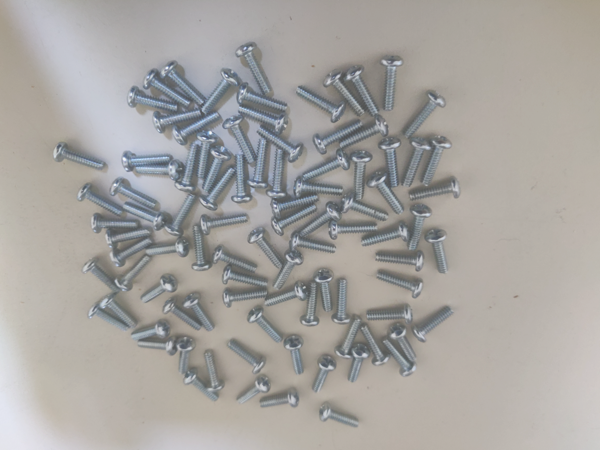shortscrew: (403, 90, 447, 140), (159, 61, 207, 106), (324, 68, 367, 117), (296, 84, 347, 123), (143, 68, 192, 108), (236, 42, 271, 95), (257, 124, 304, 163), (337, 115, 390, 149), (344, 65, 379, 116), (313, 120, 364, 155), (172, 111, 222, 146), (202, 68, 239, 115), (420, 135, 453, 187), (199, 167, 237, 211), (223, 115, 257, 164), (77, 183, 125, 217), (412, 307, 455, 344), (239, 103, 288, 135), (402, 136, 432, 188), (381, 336, 418, 378), (247, 227, 284, 269), (53, 142, 106, 171), (237, 83, 288, 113), (109, 178, 158, 209), (271, 204, 317, 237), (301, 201, 343, 237), (341, 192, 390, 222), (99, 292, 138, 329), (165, 193, 197, 237), (115, 254, 152, 292), (376, 271, 424, 300), (247, 306, 284, 343), (82, 258, 121, 293), (273, 247, 304, 291), (228, 340, 268, 374), (380, 55, 404, 111), (212, 245, 258, 274), (163, 298, 203, 331), (111, 236, 153, 267), (360, 325, 391, 367), (128, 87, 178, 113), (405, 204, 432, 252), (123, 201, 166, 231), (203, 147, 231, 193), (183, 293, 215, 333), (410, 176, 461, 201), (88, 303, 130, 333), (361, 224, 411, 249), (152, 110, 203, 134), (335, 317, 363, 360), (388, 323, 418, 363), (350, 151, 374, 200), (379, 137, 402, 188), (271, 195, 319, 219), (329, 218, 379, 241), (140, 274, 178, 304), (376, 250, 425, 273), (184, 369, 219, 401), (319, 402, 360, 429), (231, 155, 253, 204), (265, 281, 308, 306), (248, 138, 269, 189), (222, 265, 268, 288), (425, 228, 448, 274), (196, 130, 218, 178), (122, 151, 172, 172), (266, 148, 287, 198), (290, 232, 337, 254), (238, 375, 271, 406), (367, 304, 413, 326), (200, 214, 248, 235), (91, 213, 139, 234), (312, 354, 337, 393), (146, 236, 190, 258), (223, 288, 268, 309), (136, 160, 183, 180), (347, 344, 371, 383), (192, 225, 212, 271), (105, 228, 151, 248), (204, 350, 225, 393), (314, 269, 335, 312), (131, 319, 171, 341), (284, 335, 305, 376), (260, 388, 299, 410), (300, 282, 319, 327), (332, 279, 350, 326), (138, 336, 176, 357), (177, 336, 196, 375)
